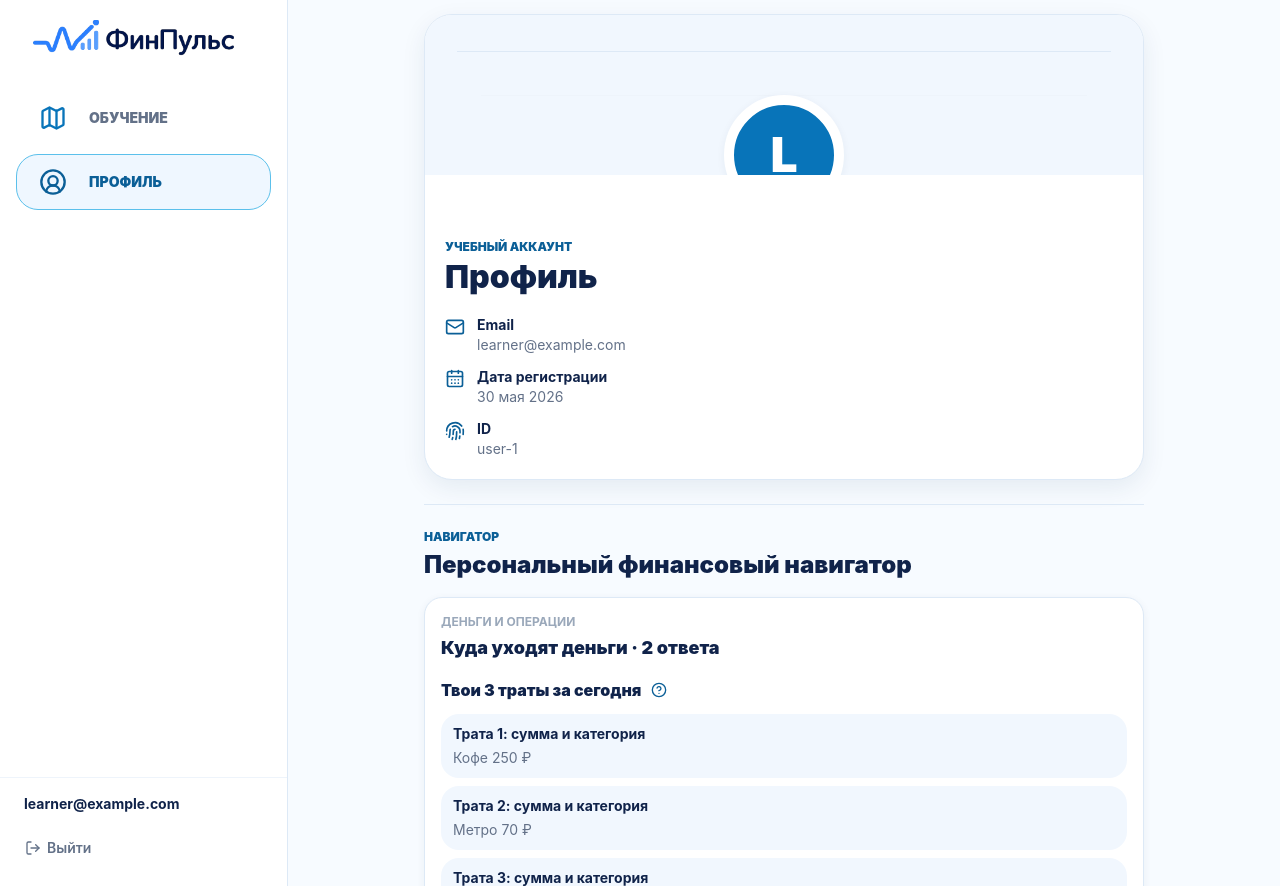
Test case: App › renders a profile screen with identity and learning stats
Expected: the heading "Профиль" is shown, [445, 257, 598, 296]
Expected: the text "Email" is shown, [477, 316, 514, 333]
Click the button named "Вспомнить вопрос". click: (659, 690)
box: [647, 678, 671, 702]
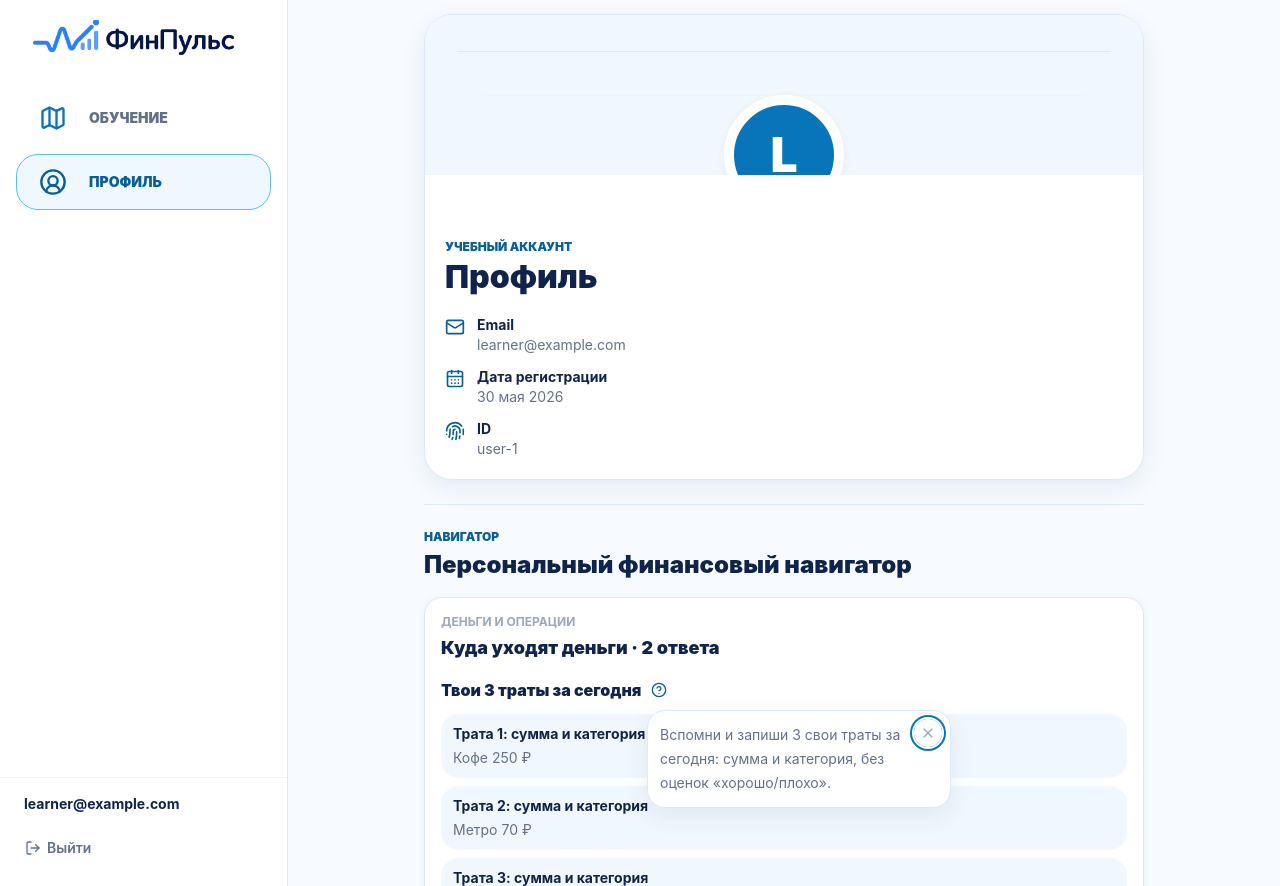
Result: the text "Вспомни и запиши 3 свои траты за сегодня: сумма и категория, без оценок «хорошо/плохо»." is shown at [660, 726, 900, 791]
Click the button named "Закрыть вопрос". click: (928, 733)
box: [914, 719, 942, 747]
(page scrolled)
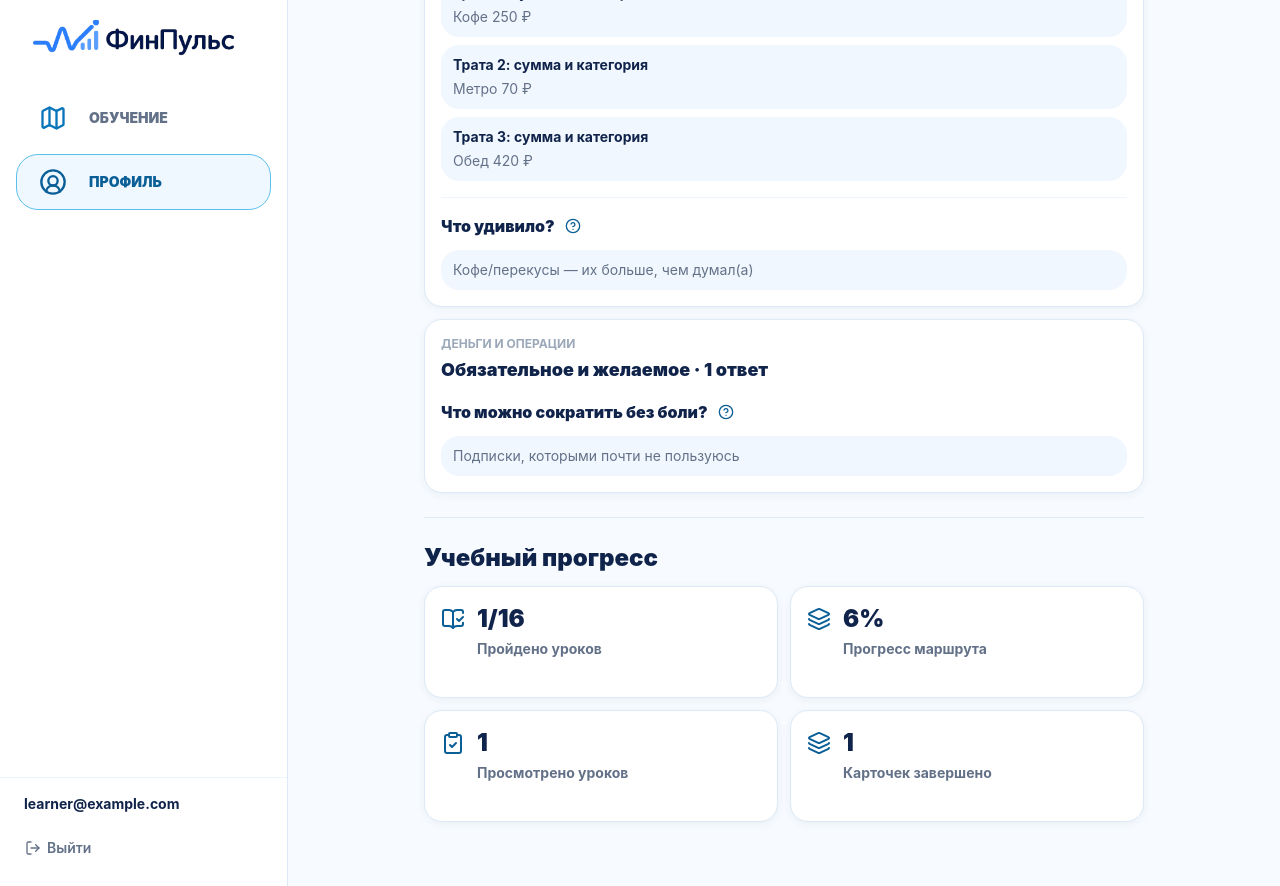
Expected: the heading "Что удивило?" is shown, [441, 214, 555, 238]
Result: the button "Вопрос" is gone
